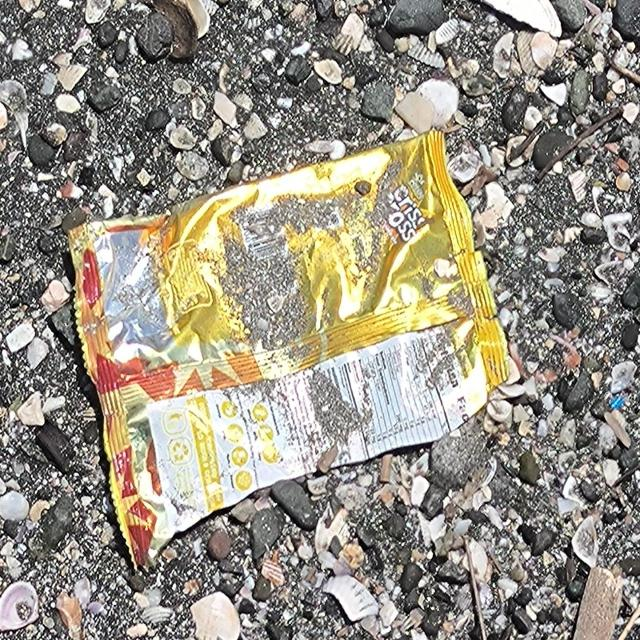plastic_waste: (70, 129, 513, 575)
